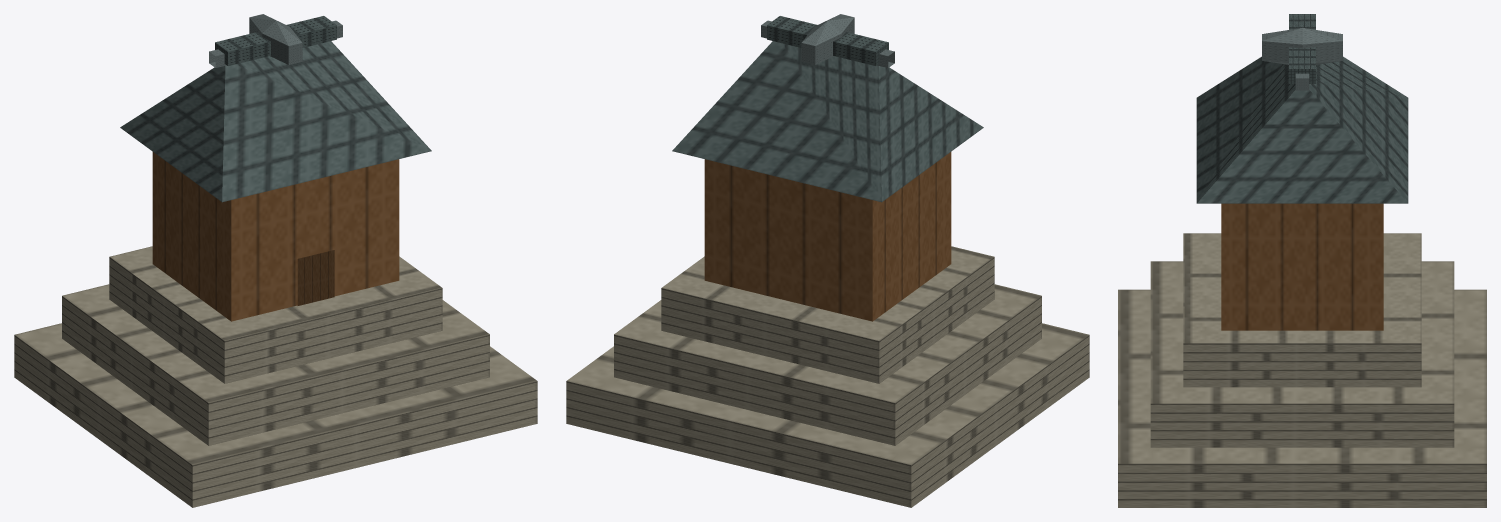
The model's file is domestic-BRONZE_TERRACE-1-lod2.glb.
3 views of the same model, side by side, from view 1: azimuth 30°, elevation 25°; view 2: azimuth 150°, elevation 25°; view 3: azimuth 270°, elevation 25° (orthographic). The views are drawn at different scales.
Size of the model in its own units: 0.76 by 0.8 by 0.68.
1 material, 1 textured.
